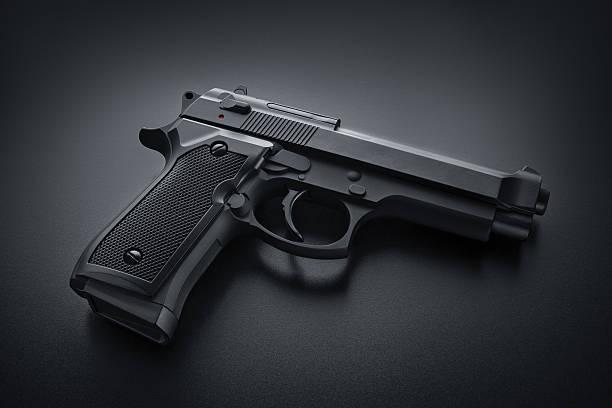weapon: (68, 79, 552, 348)
